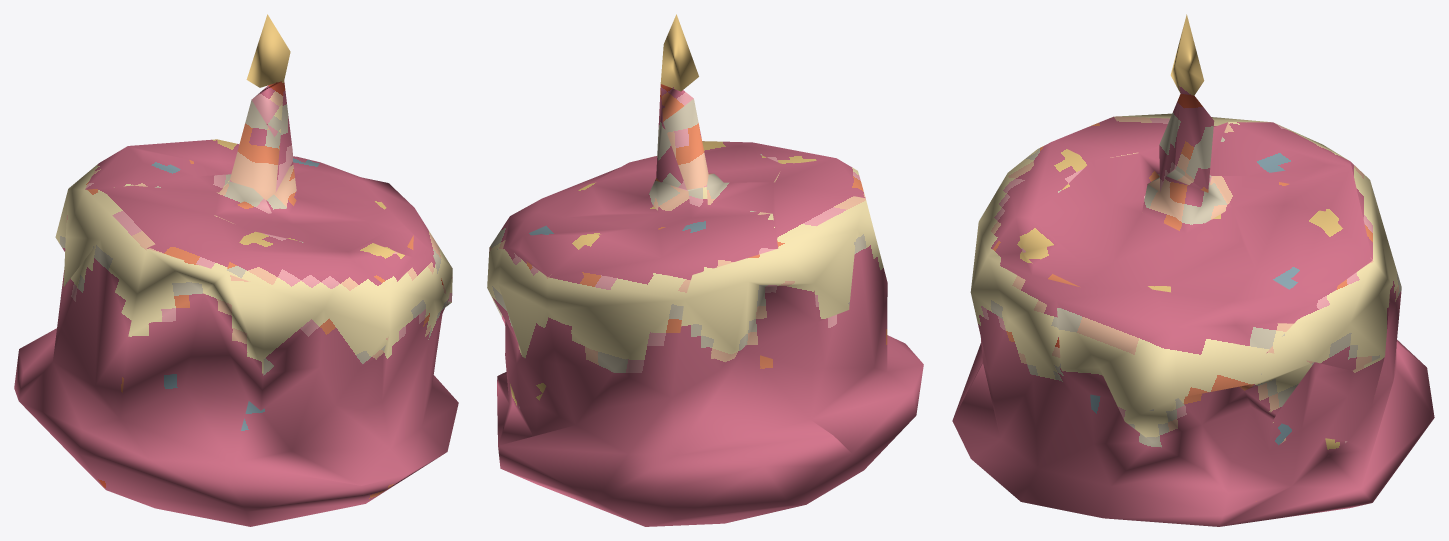
Rendered from hat-cake.glb.
3 renders of one model, left to right at view 1: azimuth 30°, elevation 25°; view 2: azimuth 150°, elevation 25°; view 3: azimuth 270°, elevation 25°, orthographic. The views are drawn at different scales.
Parts seen in each view (by area): view 1: tripo_node_ed36e55c-99ab-4de6-8fb0-d3631b988edd; view 2: tripo_node_ed36e55c-99ab-4de6-8fb0-d3631b988edd; view 3: tripo_node_ed36e55c-99ab-4de6-8fb0-d3631b988edd.
Part boxes in pixels (x1,y1,x2,y2): tripo_node_ed36e55c-99ab-4de6-8fb0-d3631b988edd: (14,14,458,526); tripo_node_ed36e55c-99ab-4de6-8fb0-d3631b988edd: (487,14,923,526); tripo_node_ed36e55c-99ab-4de6-8fb0-d3631b988edd: (952,14,1434,526).
Size of the model in its own units: 0.8564 by 1 by 0.8826.
1 material, 1 textured.
